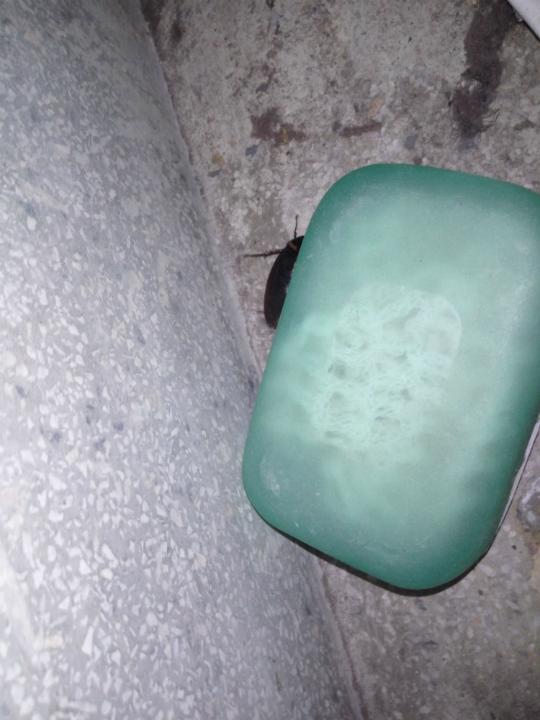cockroach: (202, 184, 311, 347)
